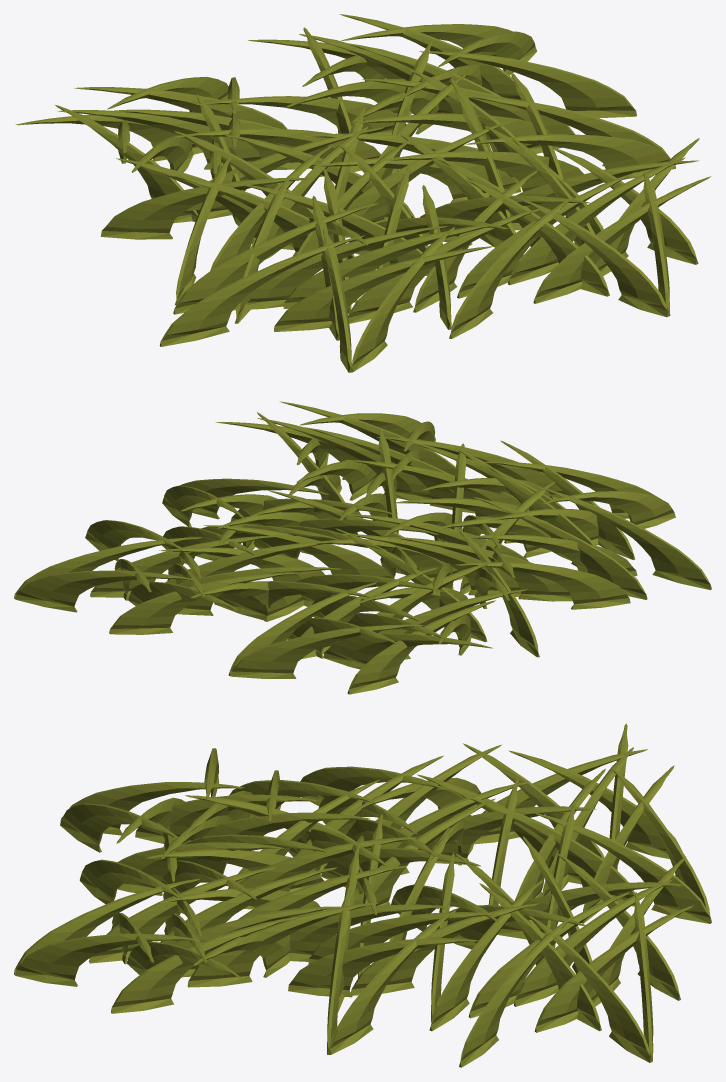
Rendered from m_path.obj.
3 views of the same model, one above another, from view 1: azimuth 30°, elevation 25°; view 2: azimuth 150°, elevation 25°; view 3: azimuth 270°, elevation 25° (orthographic). The views are drawn at different scales.
Visible parts, largest first — view 1: Plane.001; view 2: Plane.001; view 3: Plane.001.
Boxes of the visible parts, x1,y1,x2,y2 form: Plane.001: [15, 14, 711, 372]; Plane.001: [14, 401, 711, 694]; Plane.001: [14, 723, 711, 1067].
Size of the model in its own units: 1.76 by 0.184 by 1.72.
